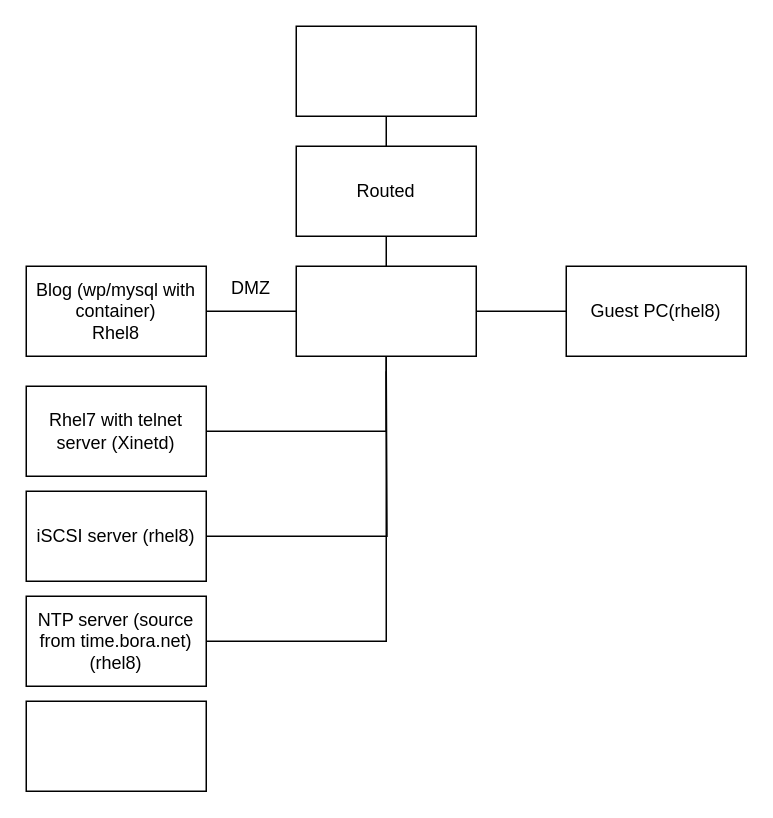
Some shapes in this 773 by 818 pixel diagram are drawn without their labels. Here are the shapes that lost their labels. From the top down, the centre of each, then its label:
At (385,70): "NIC".
At (385,310): "Router (rhel8)".
At (115,745): "Syslog pc".
